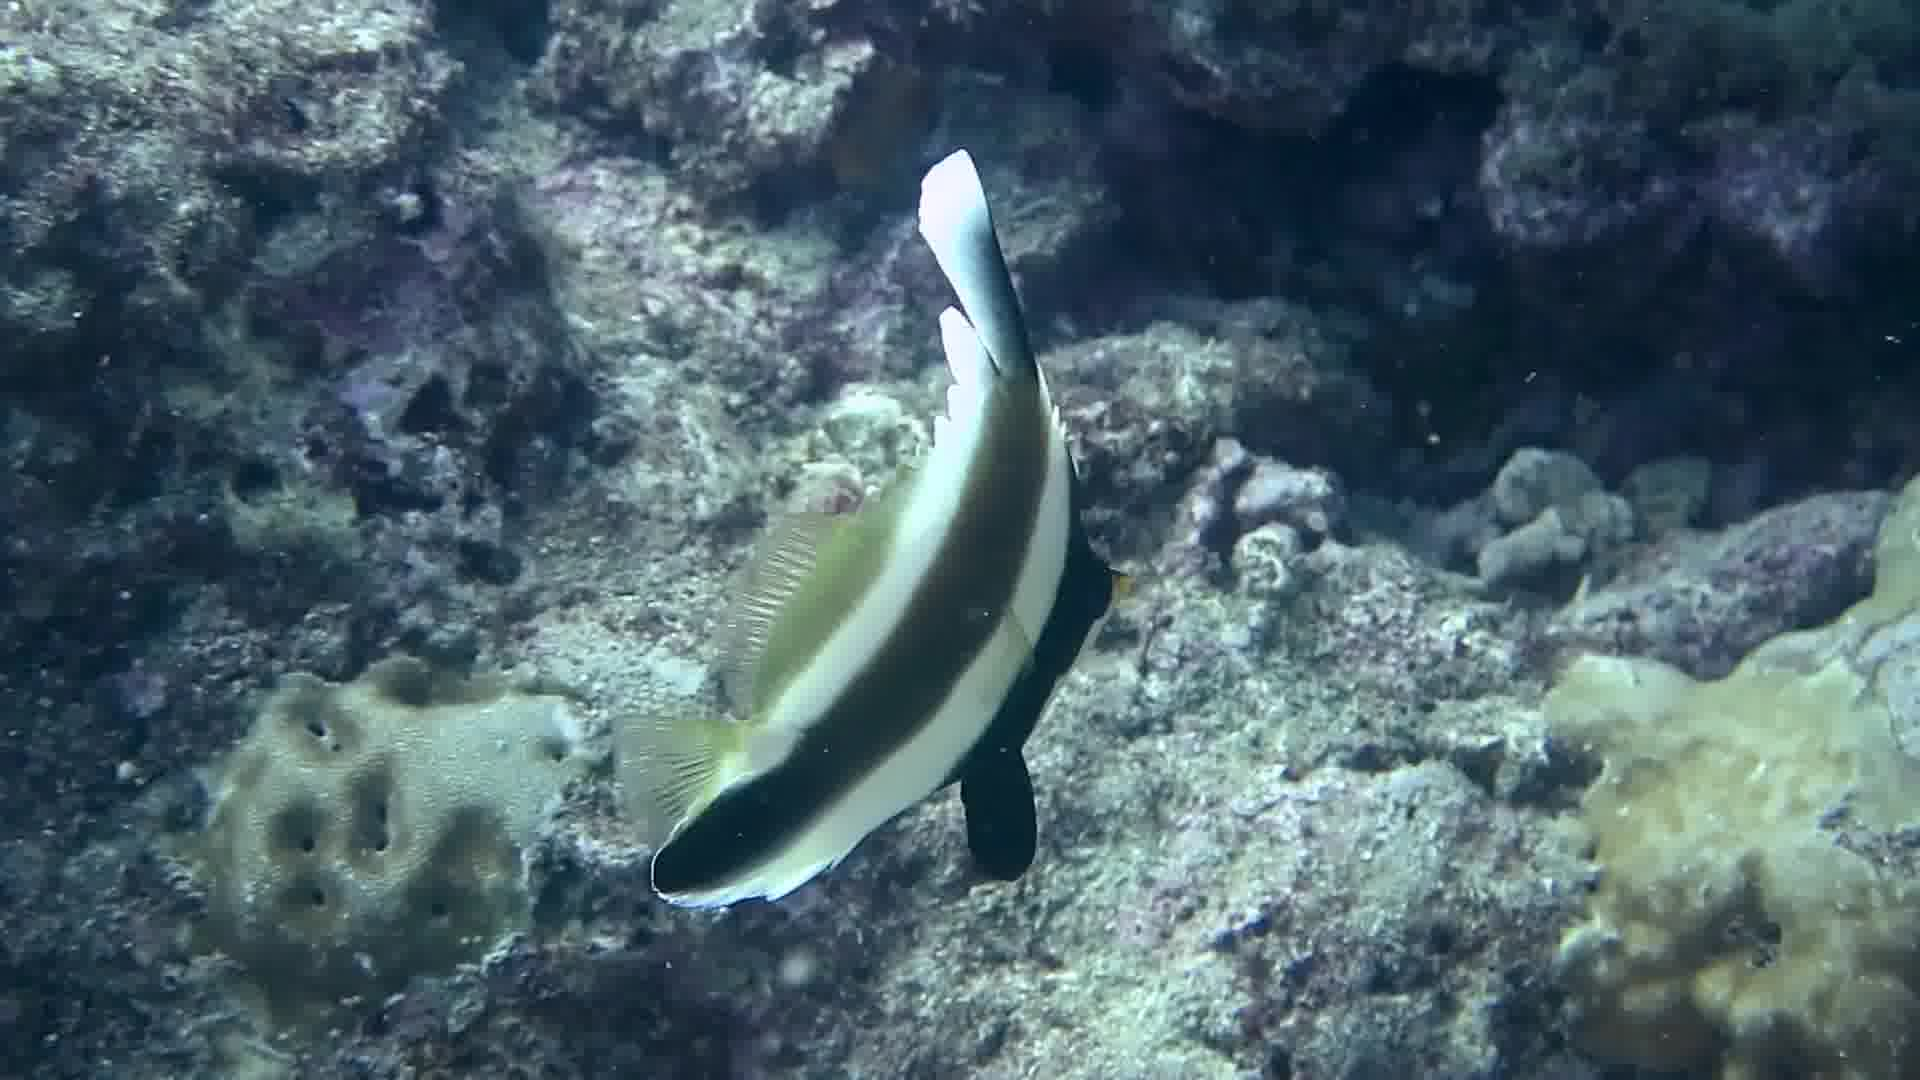Heniochus chrysostomus: (526, 152, 1327, 895)
